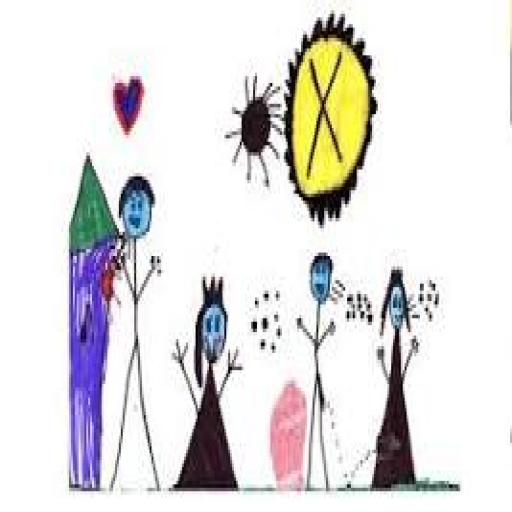objects: (370, 259, 440, 490)
person: (106, 178, 167, 496), (170, 276, 242, 492), (295, 248, 355, 496)
